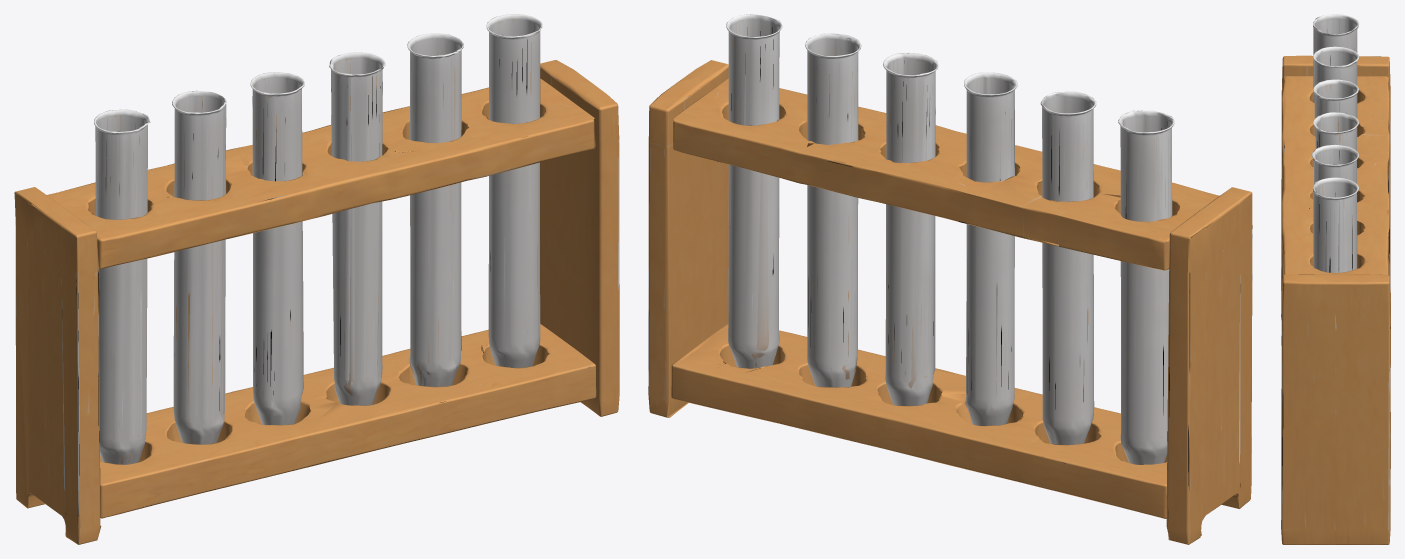
The model's file is TestTubeRack.glb.
3 views of the same model, side by side, from view 1: azimuth 30°, elevation 25°; view 2: azimuth 150°, elevation 25°; view 3: azimuth 270°, elevation 25° (orthographic). The views are drawn at different scales.
Visible parts, largest first — view 1: geometry_0; view 2: geometry_0; view 3: geometry_0.
Part boxes in pixels (<box>): geometry_0: <box>14,14,619,544</box>; geometry_0: <box>648,14,1252,544</box>; geometry_0: <box>1281,14,1390,544</box>.
Bounding box in the file's own units: 0.9536 × 0.6401 × 0.1938.
1 material, 1 textured.
